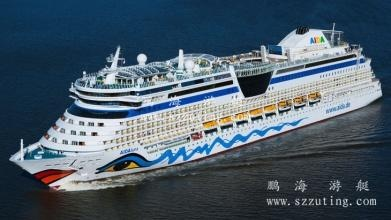youlun: (8, 23, 382, 192)
